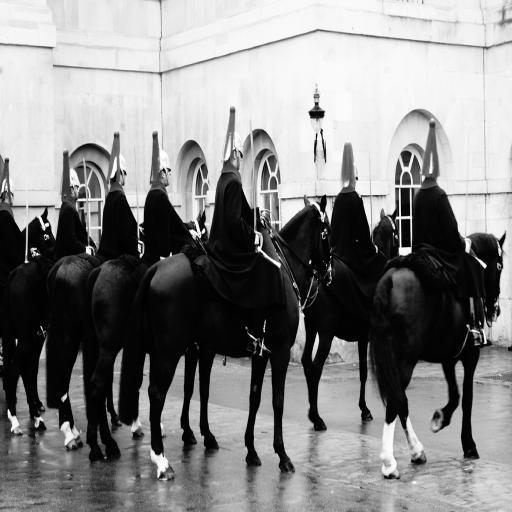horse: (0, 194, 507, 480), (366, 228, 508, 481), (300, 204, 400, 432)
